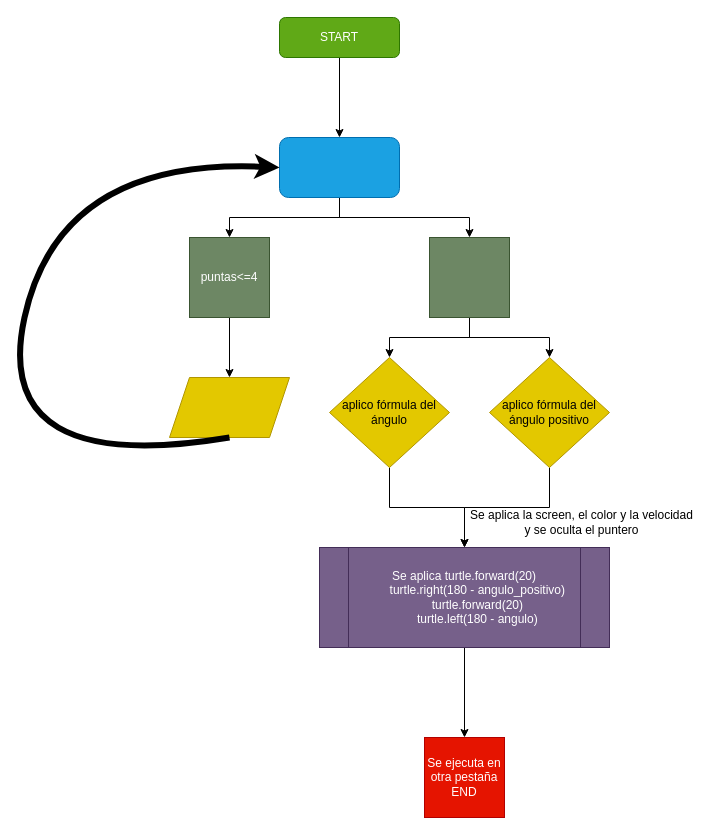
The diagram is 712 pixels wide and 835 high, and some of its shapes have lost their labels. Here are the shapes that lost their labels. From the top down, the box of each, then its label:
(278, 136, 400, 198): ¿Cuántas puntas tiene tu estrella?
(428, 236, 510, 318): puntas > 4
(168, 376, 290, 438): Número no válido
